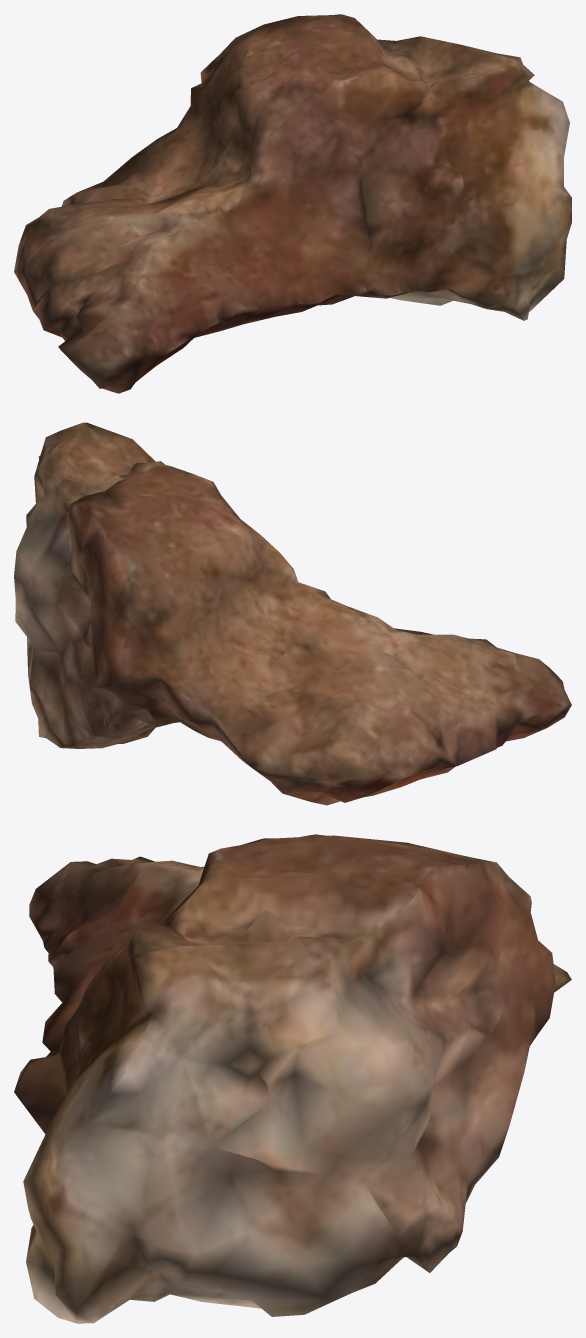
The model's file is stone.glb.
3 renders of one model, top to bottom at view 1: azimuth 30°, elevation 25°; view 2: azimuth 150°, elevation 25°; view 3: azimuth 270°, elevation 25°, orthographic. The views are drawn at different scales.
Parts seen in each view (by area): view 1: stone_01; view 2: stone_01; view 3: stone_01.
Boxes of the visible parts, left/top/right/bottom form: stone_01: left=14, top=14, right=571, bottom=393; stone_01: left=14, top=422, right=571, bottom=805; stone_01: left=14, top=834, right=571, bottom=1323.
Bounding box in the file's own units: 0.1462 × 0.0708 × 0.0886.
1 material, 1 textured.
